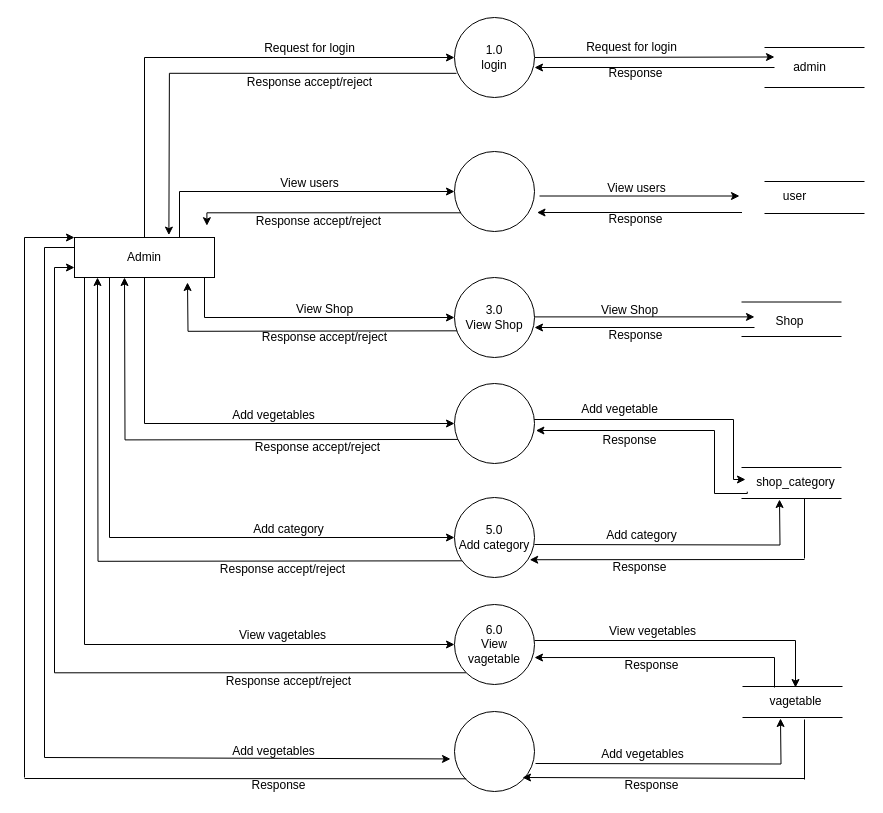
Image size: 883x813. Some labels were removed from this diagram. The shapes that lost their labels are listed below. From the top down, each one's box as (x1, y1, x2, y2) in pixels, then its label:
(454, 150, 534, 232): 2.0 View users
(454, 382, 534, 464): 4.0 View category
(454, 710, 534, 792): 7.0 Add vegetable
